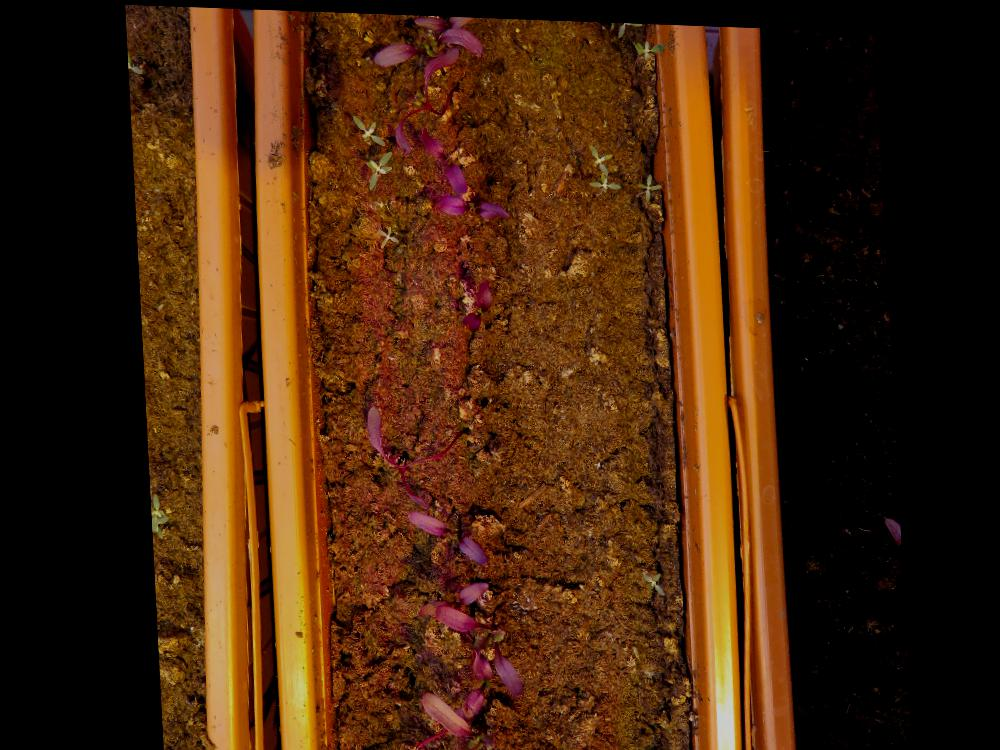weed: (361, 149, 393, 190), (348, 113, 383, 143), (631, 168, 661, 198), (630, 34, 665, 59), (633, 566, 660, 593), (373, 222, 399, 247)
